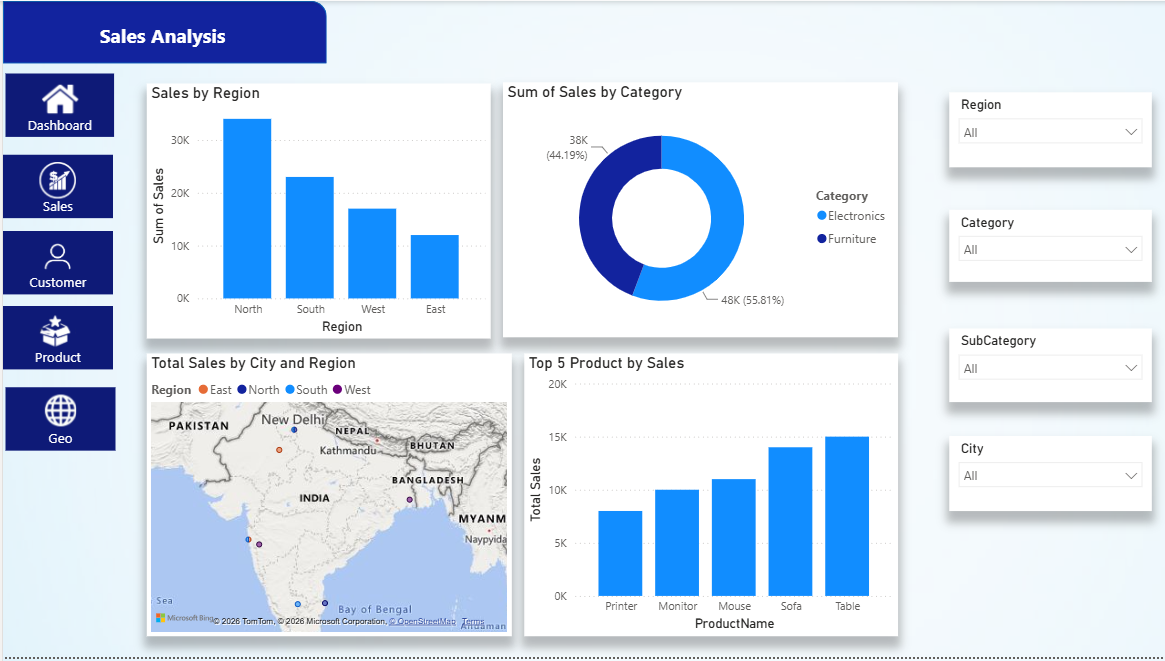

Layout of this report page (visuals, bound fields, positions):
{"tool":"powerbi","page":{"name":"Sales Analysis","canvas":[1280,720],"ordinal":1},"visuals":[{"type":"columnChart","title":" Sales by Region","fields":{"Y":["Sum(Sales.Sales)"],"Category":["Sales.Region"]},"box":[157.8,90.6,377.4,279.9],"z":0},{"type":"donutChart","fields":{"Y":["Sum(Sales.Sales)"],"Category":["Product.Category"]},"box":[548.9,89.2,433.6,279.9],"z":1000},{"type":"lineStackedColumnComboChart","title":"Top 5 Product by Sales","fields":{"Category":["Product.ProductName"],"Y":["Sales.Total Sales"]},"box":[572.2,387,410.3,310.1],"z":2000},{"type":"map","fields":{"Y":["Sales.Total Sales"],"Category":["Customer.City"],"Series":["Sales.Region"]},"box":[157.8,387,400.7,310.1],"z":3000},{"type":"actionButton","box":[2.7,79.6,119.4,70],"z":4000},{"type":"actionButton","box":[0,168.8,120.8,70],"z":5000},{"type":"actionButton","box":[0,252.5,120.8,70],"z":6000},{"type":"actionButton","box":[0,334.8,120.8,70],"z":7000},{"type":"slicer","fields":{"Values":["Product.Category"]},"box":[1038.8,229.2,222.3,79.6],"z":8000},{"type":"slicer","fields":{"Values":["Sales.Region"]},"box":[1038.8,100.2,222.3,82.3],"z":9000},{"type":"slicer","fields":{"Values":["Product.SubCategory"]},"box":[1038.8,359.5,222.3,81],"z":10000},{"type":"actionButton","box":[2.7,424,120.8,70],"z":11000},{"type":"shape","box":[0,0,355.4,68.6],"z":12000},{"type":"slicer","fields":{"Values":["Customer.City"]},"box":[1038.8,477.5,222.3,82.3],"z":13000}]}

Visuals, with their boxes on the page's 1280x720 design canvas (x1, y1, x2, y2). These are canvas units, not pixel positions in the 1165x661 screenshot, which may show the page scaled, cropped or inside an application window:
" Sales by Region" columnChart: (158,91,535,370)
donutChart - Sum(Sales.Sales) x Product.Category: (549,89,982,369)
"Top 5 Product by Sales" lineStackedColumnComboChart: (572,387,982,697)
map - Sales.Total Sales x Customer.City: (158,387,558,697)
actionButton: (3,80,122,150)
actionButton: (0,169,121,239)
actionButton: (0,252,121,322)
actionButton: (0,335,121,405)
slicer - Product.Category: (1039,229,1261,309)
slicer - Sales.Region: (1039,100,1261,182)
slicer - Product.SubCategory: (1039,360,1261,440)
actionButton: (3,424,124,494)
shape: (0,0,355,69)
slicer - Customer.City: (1039,478,1261,560)
